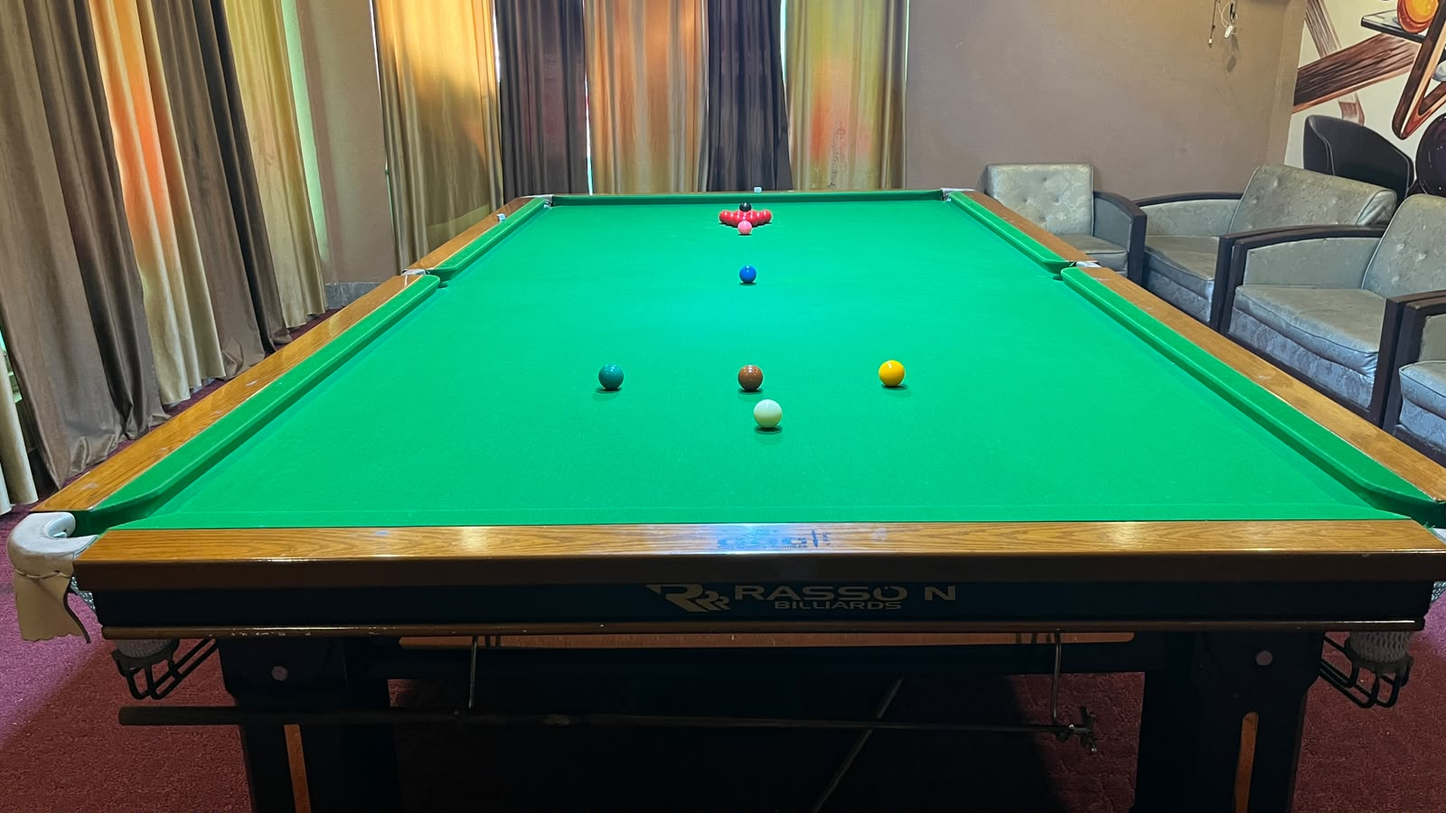Snooker: (716, 209, 774, 226)
